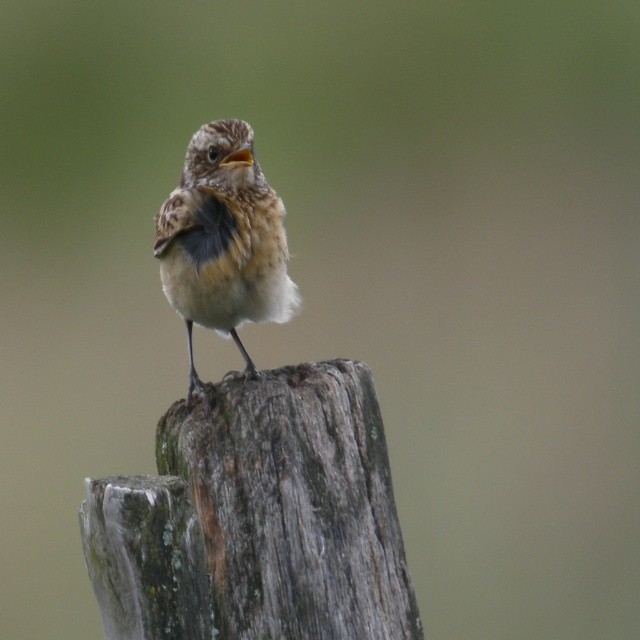Sparrow: (146, 117, 298, 409)
